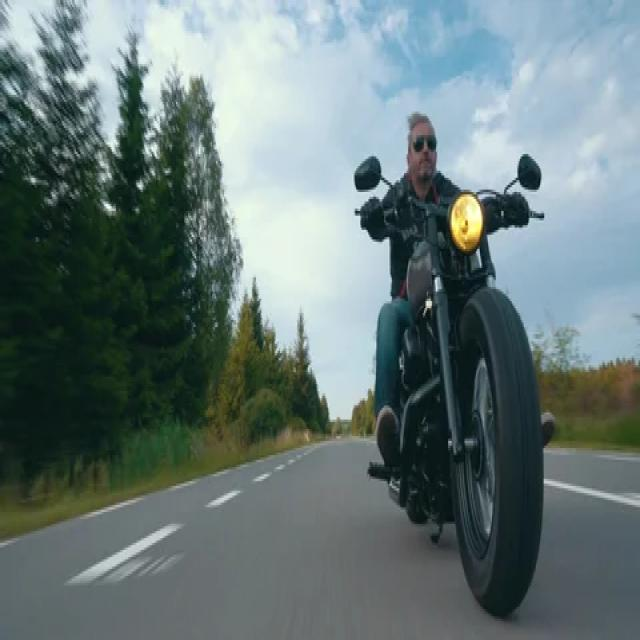No-Helmet: (402, 103, 444, 187)
